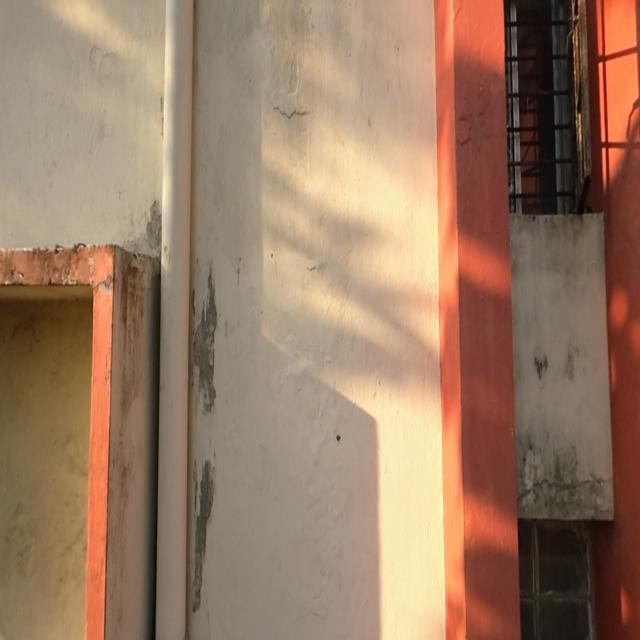Moss growth due to damping: (0, 200, 161, 639), (510, 213, 614, 521), (190, 280, 220, 411), (189, 459, 215, 610)
